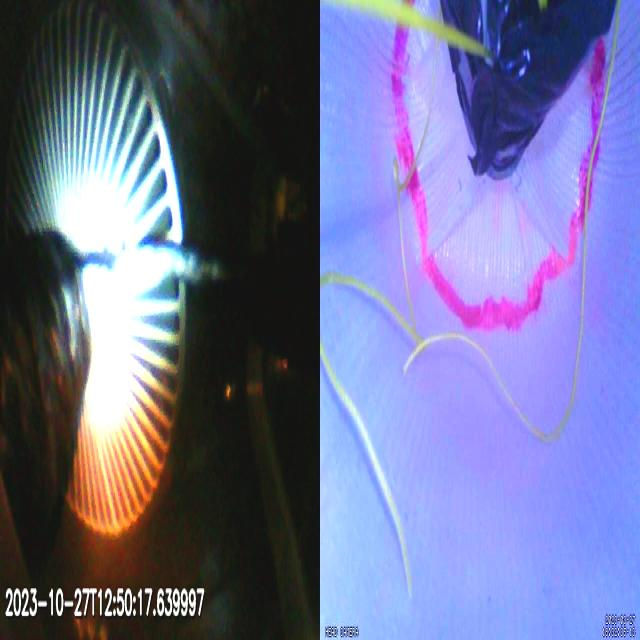red-circle: (392, 28, 604, 333)
